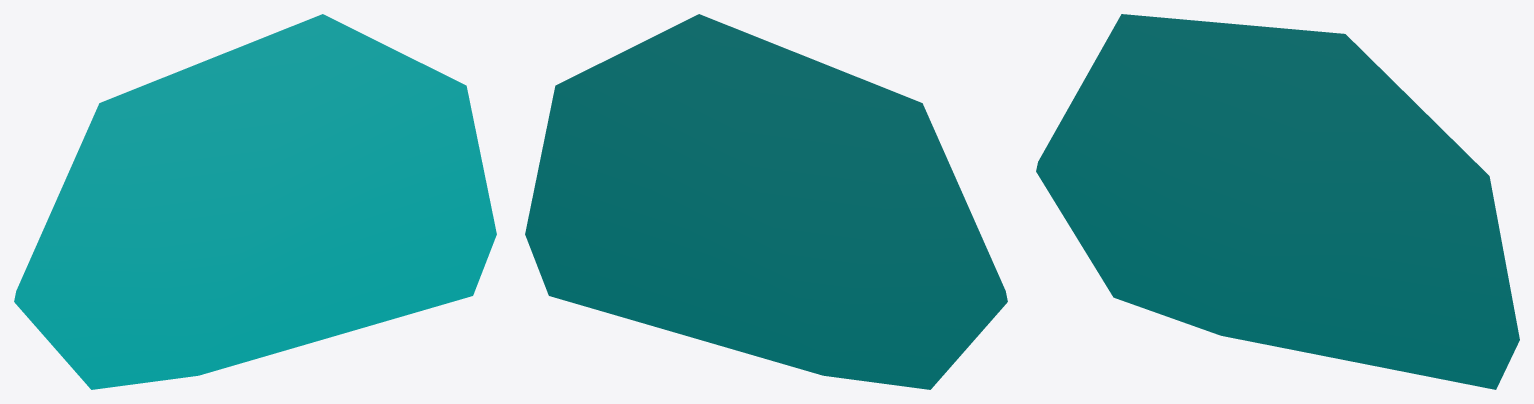
Rendered from Bigleaf_Hydrangea_vgztealha_Mid_vgztealha_VarH_LOD3.fbx.
3 views of the same model, side by side, from view 1: azimuth 30°, elevation 25°; view 2: azimuth 150°, elevation 25°; view 3: azimuth 330°, elevation 25° (orthographic).
Parts seen in each view (by area): view 1: _yy2j_VarH_LOD5; view 2: _yy2j_VarH_LOD5; view 3: _yy2j_VarH_LOD5.
Boxes of the visible parts, x1,y1,x2,y2 form: _yy2j_VarH_LOD5: [14, 14, 496, 389]; _yy2j_VarH_LOD5: [525, 14, 1007, 389]; _yy2j_VarH_LOD5: [1036, 14, 1519, 389].
Size of the model in its own units: 54.34 by 35.65 by 0.
